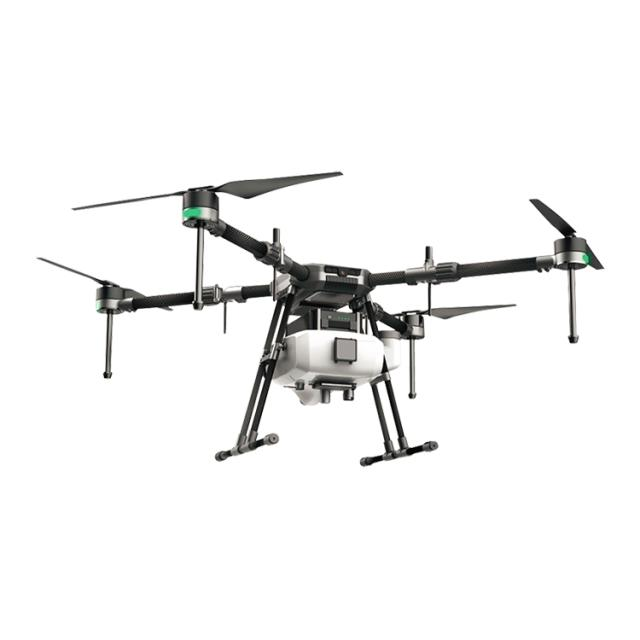drone: (50, 154, 596, 500)
